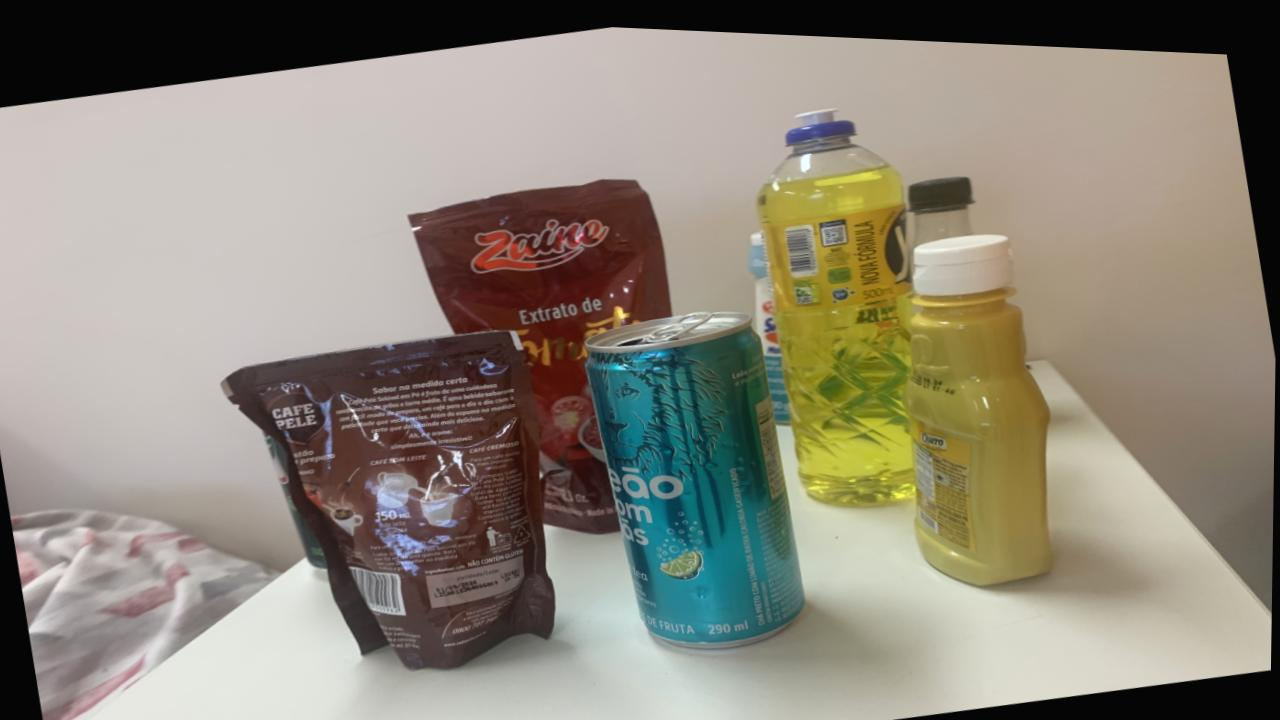Cleaner-Cleanup_Items: (746, 224, 792, 416)
Coffee-Pantry_Items: (224, 325, 557, 664)
Detergent-Cleanup_Items: (756, 103, 915, 498)
Mustard-Pantry_Items: (906, 224, 1055, 575)
Soda-Drinks: (907, 167, 973, 243)
Tea-Drinks: (586, 304, 806, 641)
Tomato_Sauce-Pantry_Items: (409, 173, 671, 527)
